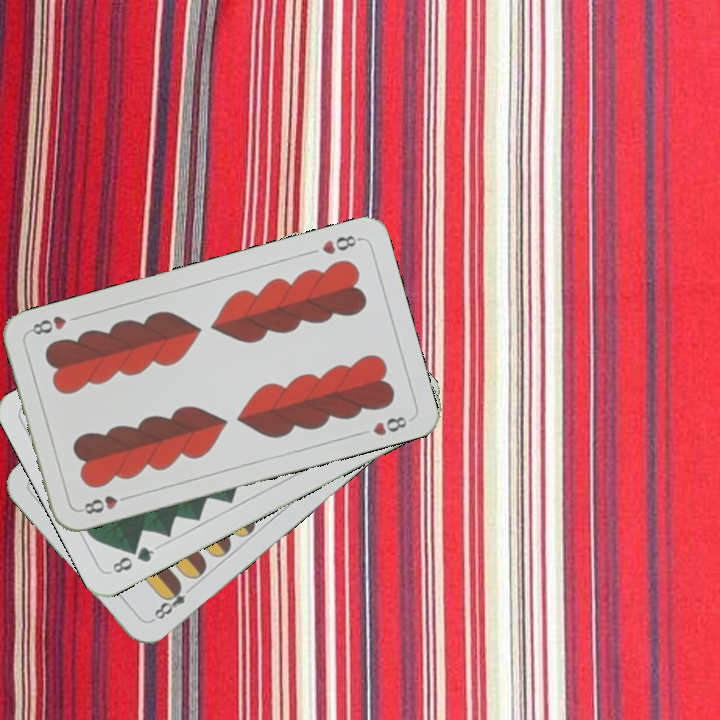E8: (147, 579, 197, 624)
G8: (108, 542, 157, 576)
H8: (76, 491, 134, 517), (318, 231, 363, 257)
